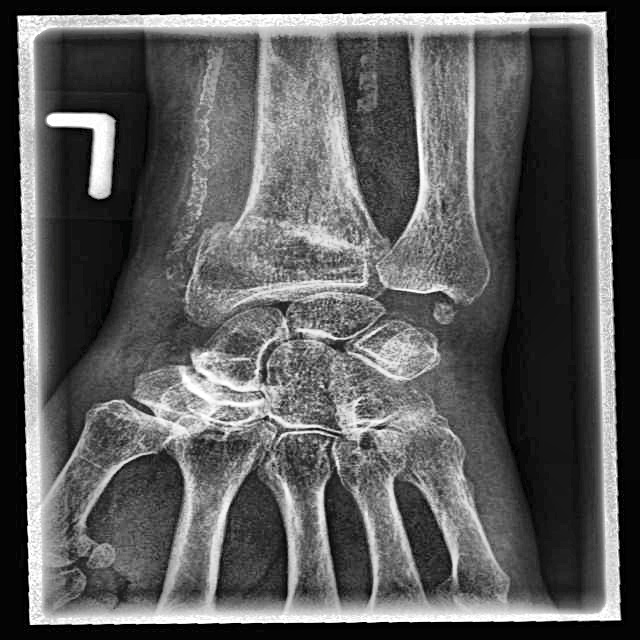Oblique Displaced: (36, 480, 120, 576)
